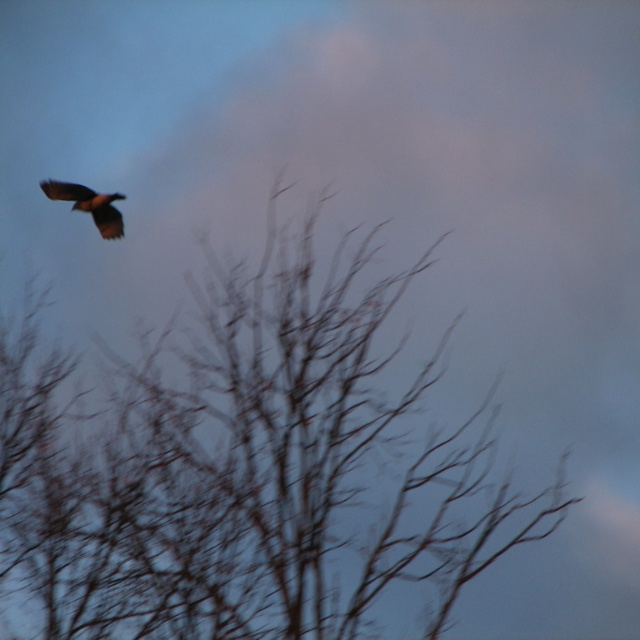Eagle: (35, 178, 127, 245)
